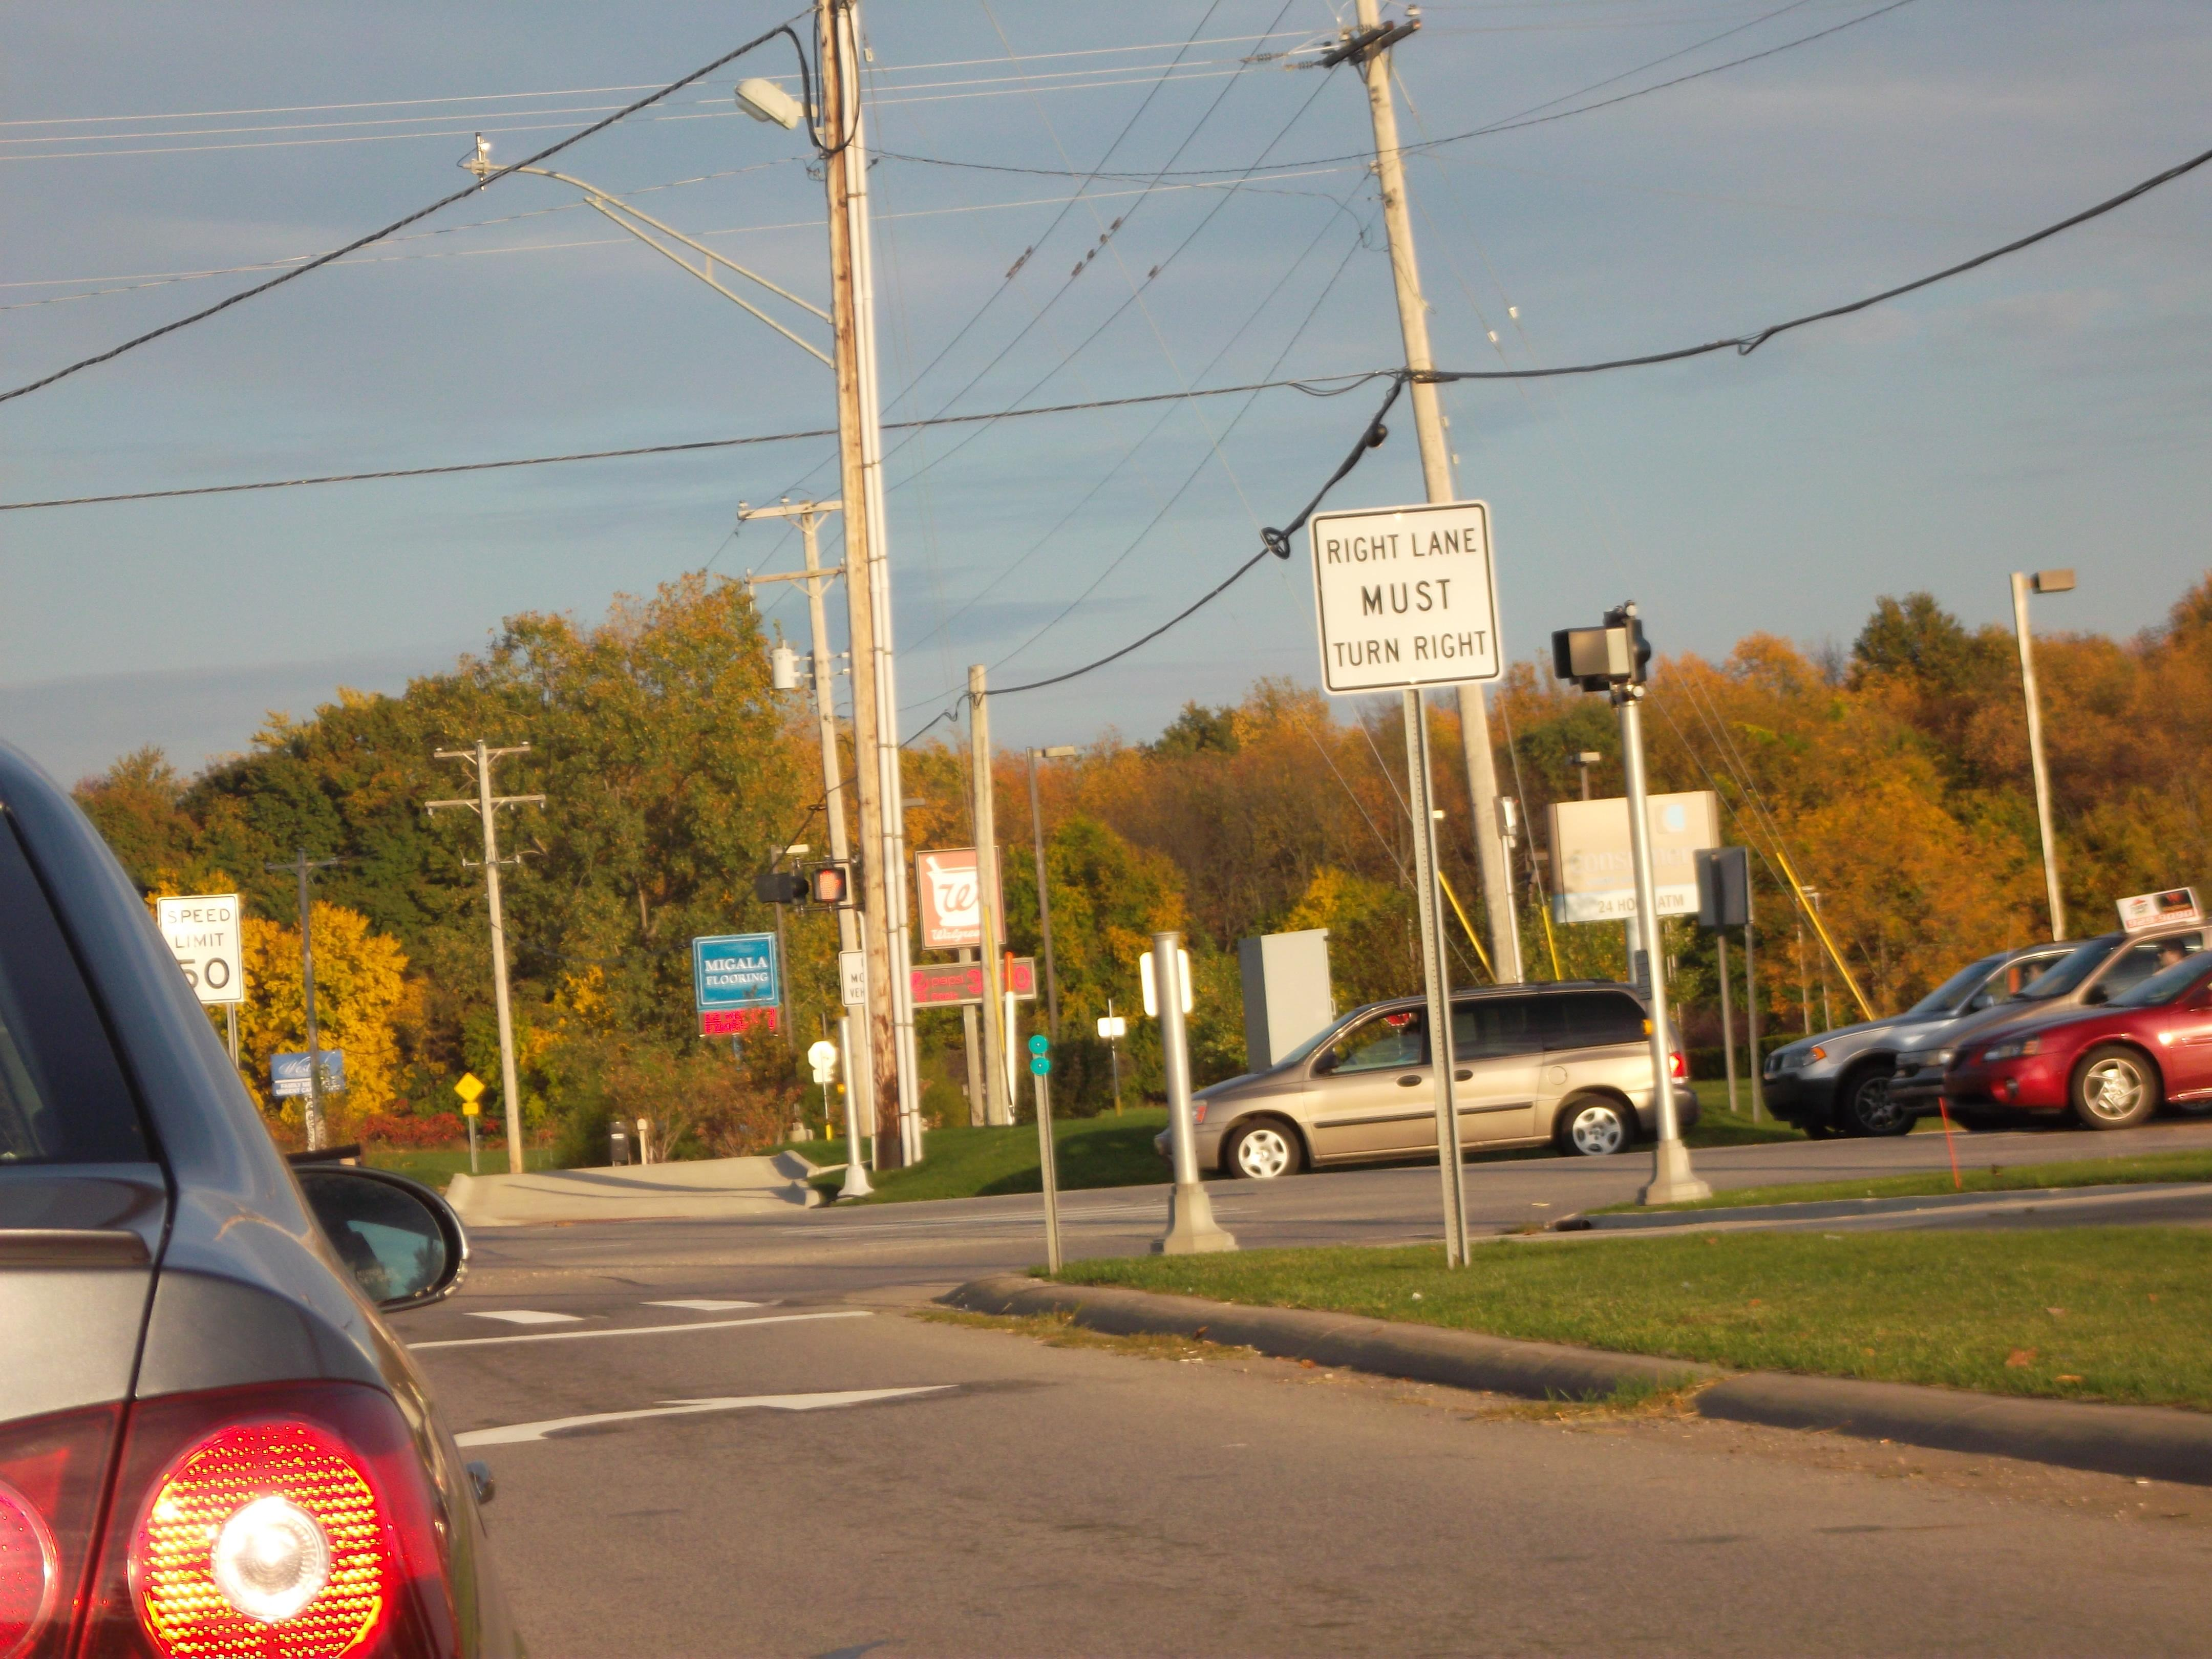regulatory: (1306, 500, 1515, 695), (150, 892, 247, 1004)
warning: (453, 1070, 484, 1101)
